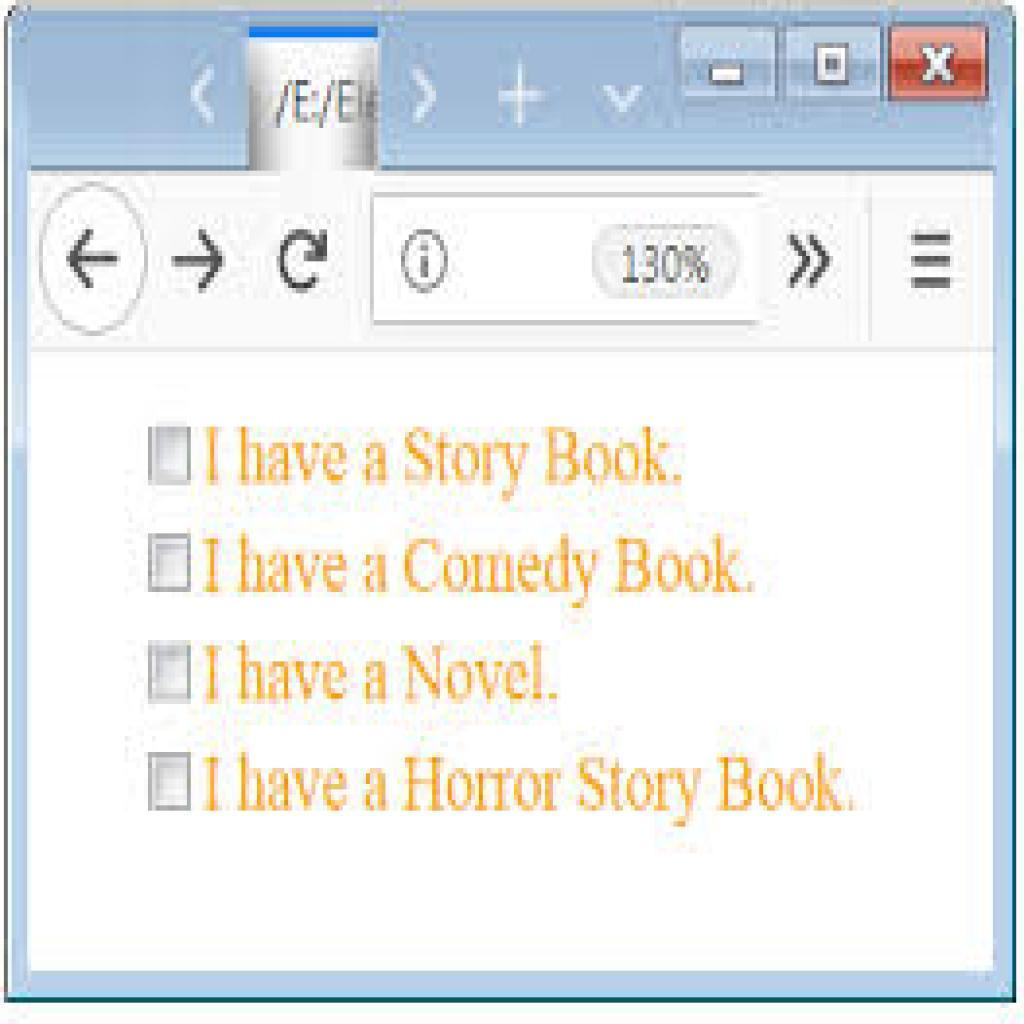checkbox: (149, 426, 192, 483), (150, 643, 192, 701), (150, 534, 191, 592), (150, 754, 189, 811)
icon: (38, 182, 149, 342), (904, 227, 966, 306), (271, 230, 340, 299), (398, 228, 461, 294), (784, 227, 839, 298), (171, 232, 225, 299)
